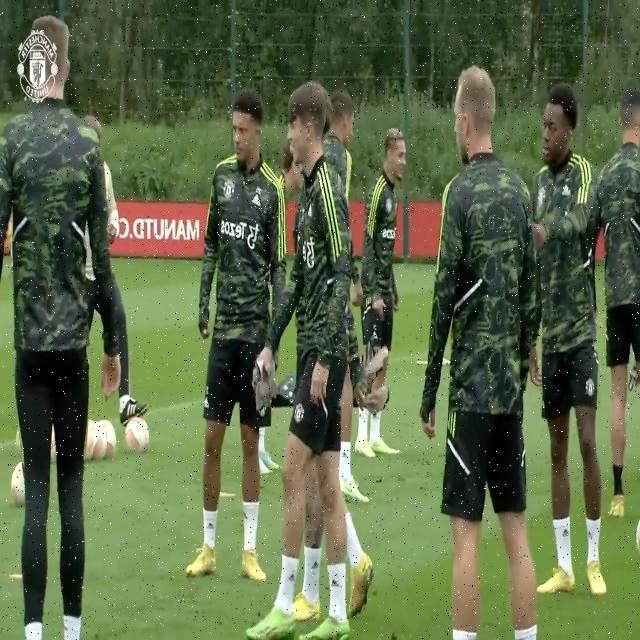Adidas: (328, 574, 340, 593), (251, 192, 261, 210), (560, 526, 570, 542), (561, 182, 571, 198), (310, 556, 320, 572)
